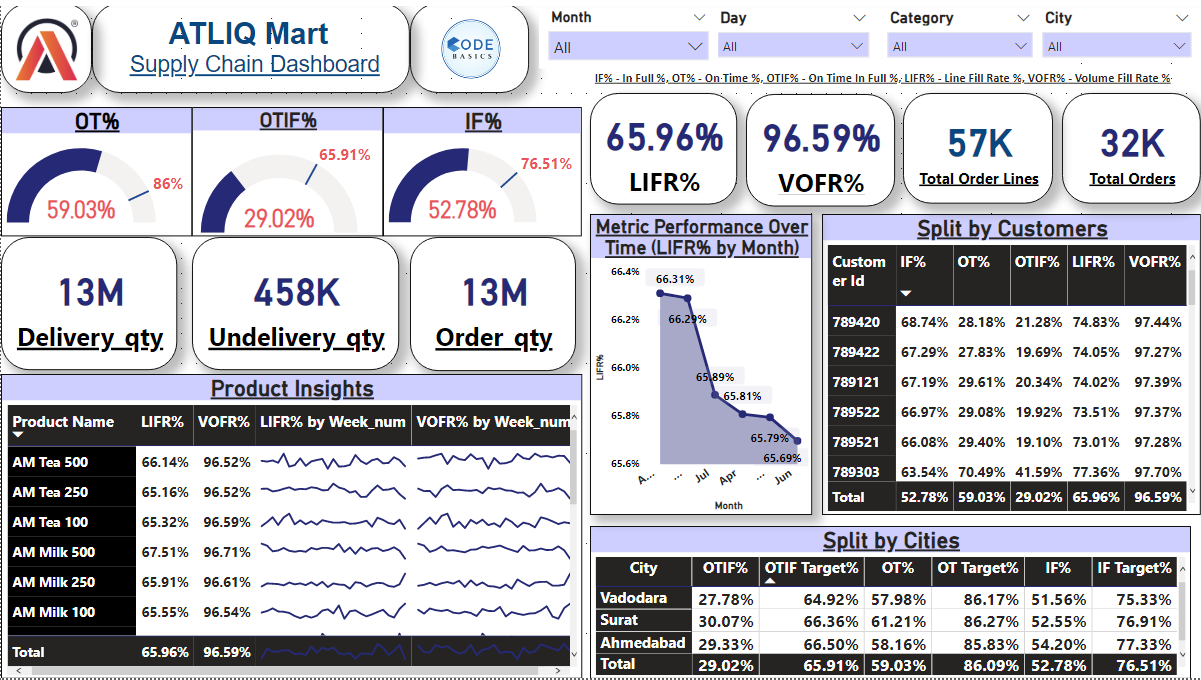

The dashboard page shown, as its layout file describes it:
{"tool":"powerbi","page":{"name":"Page 1","canvas":[1280,720],"ordinal":0},"visuals":[{"type":"image","box":[0,0,97.3,96],"z":0},{"type":"image","box":[436.5,0,126.7,96],"z":1000},{"type":"slicer","fields":{"Values":["dim_date.day"]},"box":[753.9,0,181.8,70.4],"z":2000},{"type":"slicer","fields":{"Values":["dim_date.month"]},"box":[573.4,0,190.7,70.4],"z":3000},{"type":"slicer","fields":{"Values":["dim_products.category"]},"box":[935.7,0,175.4,70.4],"z":4000},{"type":"slicer","fields":{"Values":["dim_customers.city"]},"box":[1100.8,0,179.2,62.7],"z":5000},{"type":"card","fields":{"Values":["fact_order_lines.LIFR%"]},"box":[628.5,96,157.4,119],"z":6000},{"type":"card","fields":{"Values":["fact_order_lines.VOFR%"]},"box":[794.9,97.3,158.7,120.3],"z":7000},{"type":"gauge","title":"OTIF% ","fields":{"Y":["fact_orders_aggregate.OTIF%"],"TargetValue":["dim_targets_orders.OTIF_Avg"]},"box":[203.5,111.4,203.5,138.2],"z":8000},{"type":"gauge","title":"OT% ","fields":{"Y":["fact_orders_aggregate.OT%"],"TargetValue":["dim_targets_orders.OT_Avg"]},"box":[0,111.4,203.5,138.2],"z":9000},{"type":"gauge","title":"IF% ","fields":{"Y":["fact_orders_aggregate.IF%"],"TargetValue":["dim_targets_orders.IF_Avg"]},"box":[407,111.4,212.5,138.2],"z":10000},{"type":"card","fields":{"Values":["Sum(fact_order_lines.delivery_qty)"]},"box":[0,249.6,188.2,142.1],"z":11000},{"type":"card","fields":{"Values":["fact_order_lines.Undelivery_qty"]},"box":[203.5,249.6,221.4,142.1],"z":12000},{"type":"pivotTable","title":"Split by Customers","fields":{"Values":["fact_orders_aggregate.IF%","fact_orders_aggregate.OT%","fact_orders_aggregate.OTIF%","fact_order_lines.LIFR%","fact_order_lines.VOFR%"],"Rows":["dim_customers.customer_id"]},"box":[875.5,225.3,404.5,321.3],"z":13000},{"type":"pivotTable","title":"Split by Cities ","fields":{"Rows":["dim_customers.city"],"Values":["fact_orders_aggregate.OTIF%","dim_targets_orders.OTIF_Avg1","fact_orders_aggregate.OT%","dim_targets_orders.OT_Avg","fact_orders_aggregate.IF%","dim_targets_orders.IF_Avg"]},"box":[628.5,558.1,641.3,162.6],"z":14000},{"type":"card","fields":{"Values":["Sum(fact_order_lines.order_qty)"]},"box":[436.5,249.6,176.6,143.4],"z":15000},{"type":"card","fields":{"Values":["fact_orders_aggregate.total_orders"]},"box":[1131.5,96,148.5,117.8],"z":16000},{"type":"card","fields":{"Values":["fact_order_lines.total_order_lines"]},"box":[962.6,96,160,117.8],"z":17000},{"type":"tableEx","title":"Product Insights","fields":{"Values":["dim_products.product_name","fact_order_lines.LIFR%","fact_order_lines.VOFR%","SparklineData(fact_order_lines.LIFR%_[fact_order_lines.Week_num])","SparklineData(fact_order_lines.VOFR%_[fact_order_lines.Week_num])"]},"box":[0,395.5,619.5,325.1],"z":18000},{"type":"areaChart","title":"Metric Performance Over Time  (LIFR% by Month)","fields":{"Category":["fact_order_lines.Month"],"Y":["fact_order_lines.LIFR%"]},"box":[628.5,225.3,236.8,321.3],"z":19000},{"type":"textbox","box":[628.5,65.3,641.3,30.7],"z":20000},{"type":"textbox","box":[97.3,0,339.2,96],"z":21000}]}

Visuals, with their boxes in screenshot pixels (x1, y1, x2, y2), scaled from the page's 1280x720 canvas onto the 1201x680 screenshot:
image: [x1=0, y1=0, x2=91, y2=91]
image: [x1=410, y1=0, x2=528, y2=91]
slicer - dim_date.day: [x1=707, y1=0, x2=878, y2=66]
slicer - dim_date.month: [x1=538, y1=0, x2=717, y2=66]
slicer - dim_products.category: [x1=878, y1=0, x2=1043, y2=66]
slicer - dim_customers.city: [x1=1033, y1=0, x2=1200, y2=59]
card - fact_order_lines.LIFR%: [x1=590, y1=91, x2=737, y2=203]
card - fact_order_lines.VOFR%: [x1=746, y1=92, x2=895, y2=206]
"OTIF% " gauge: [x1=191, y1=105, x2=382, y2=236]
"OT% " gauge: [x1=0, y1=105, x2=191, y2=236]
"IF% " gauge: [x1=382, y1=105, x2=581, y2=236]
card - Sum(fact_order_lines.delivery_qty): [x1=0, y1=236, x2=177, y2=370]
card - fact_order_lines.Undelivery_qty: [x1=191, y1=236, x2=399, y2=370]
"Split by Customers" pivotTable: [x1=821, y1=213, x2=1200, y2=516]
"Split by Cities " pivotTable: [x1=590, y1=527, x2=1191, y2=679]
card - Sum(fact_order_lines.order_qty): [x1=410, y1=236, x2=575, y2=371]
card - fact_orders_aggregate.total_orders: [x1=1062, y1=91, x2=1200, y2=202]
card - fact_order_lines.total_order_lines: [x1=903, y1=91, x2=1053, y2=202]
"Product Insights" tableEx: [x1=0, y1=374, x2=581, y2=679]
"Metric Performance Over Time  (LIFR% by Month)" areaChart: [x1=590, y1=213, x2=812, y2=516]
textbox: [x1=590, y1=62, x2=1191, y2=91]
textbox: [x1=91, y1=0, x2=410, y2=91]
